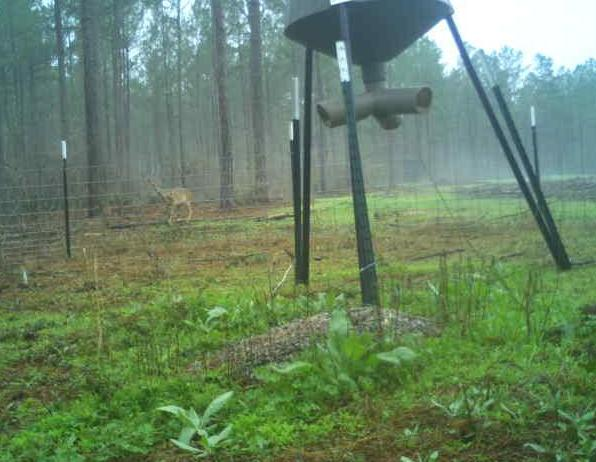Deer: (145, 173, 197, 228)
